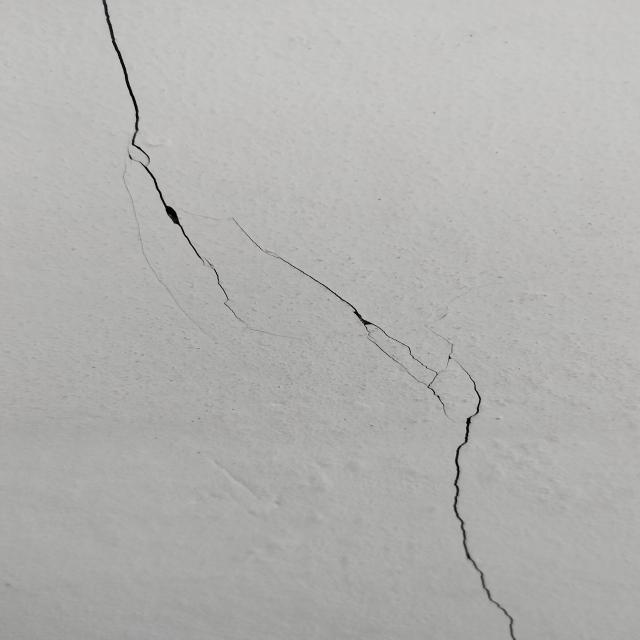Crack: (91, 0, 525, 640)
